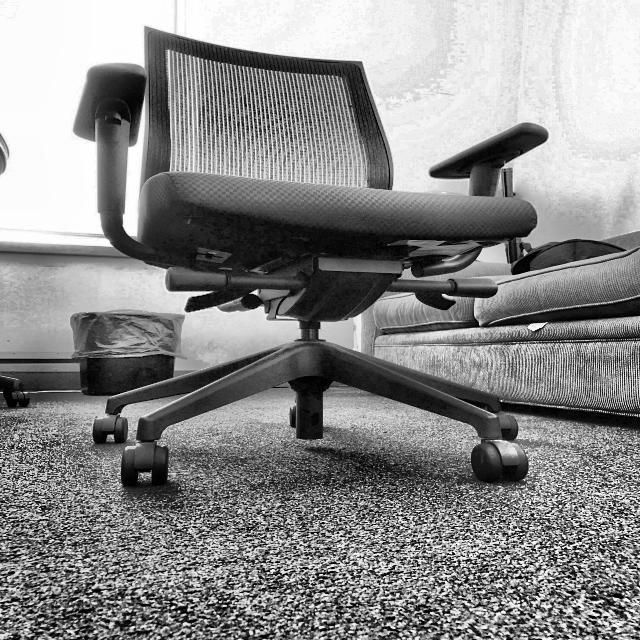chair: (75, 22, 552, 488)
